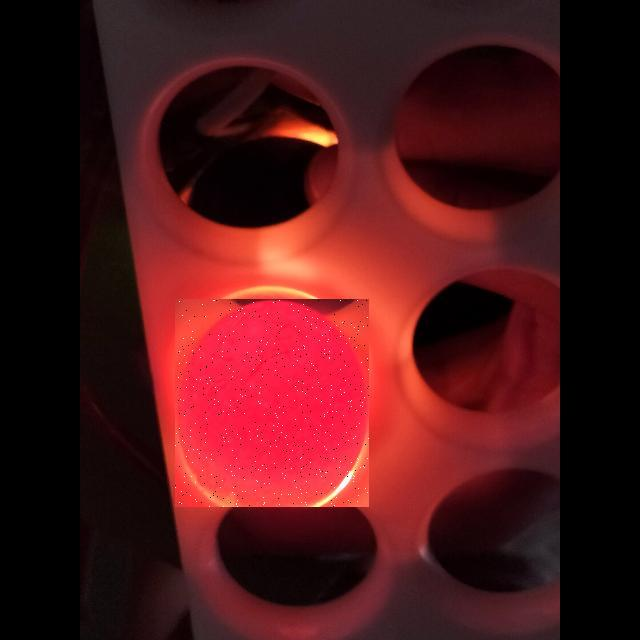Infertile: (175, 299, 369, 507)
